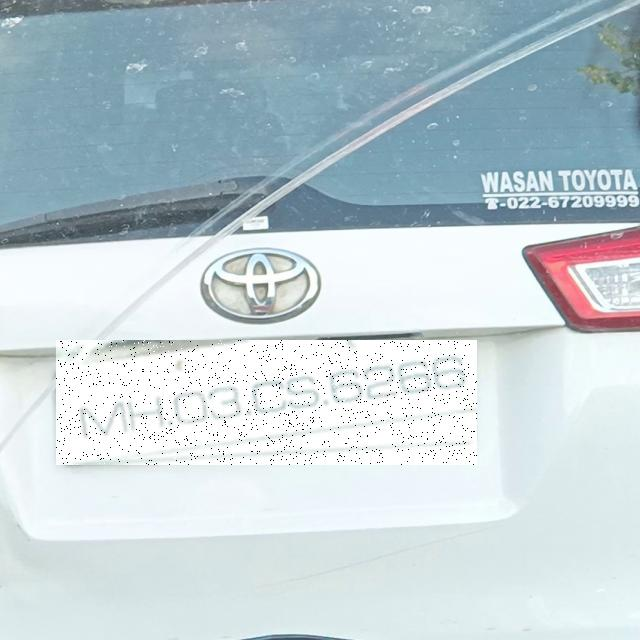Plate: (57, 341, 478, 466)
